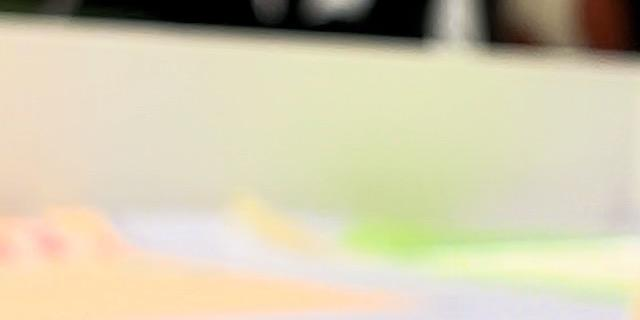burger: (500, 0, 640, 320)
